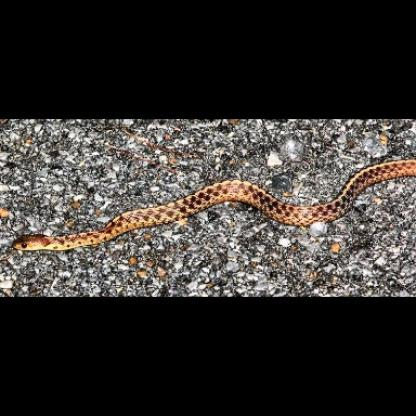Snake: (10, 156, 416, 252)
